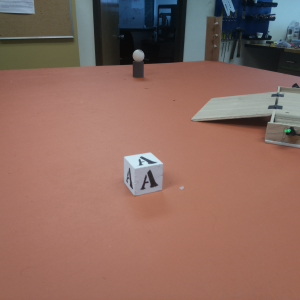blockA: (121, 147, 168, 194)
corner: (202, 11, 225, 62)
obstacle: (131, 49, 148, 78)
side: (265, 120, 300, 145)
slope: (193, 92, 287, 115)
